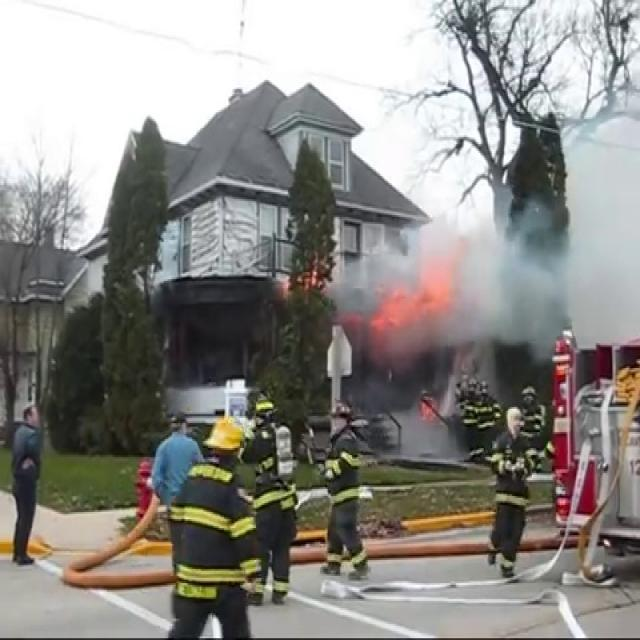Smoke: (366, 4, 640, 412)
